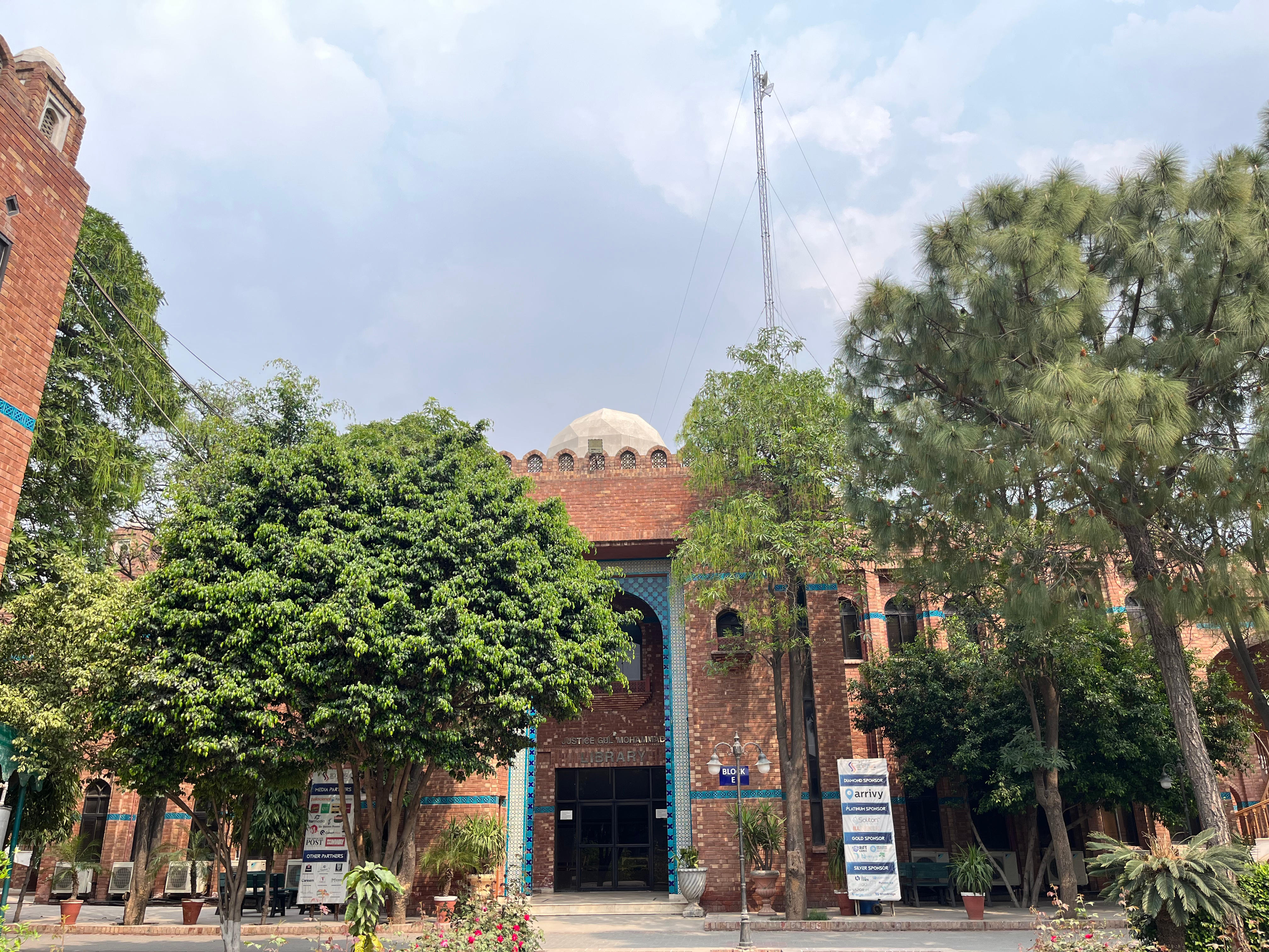Block E: (73, 400, 1269, 929)
